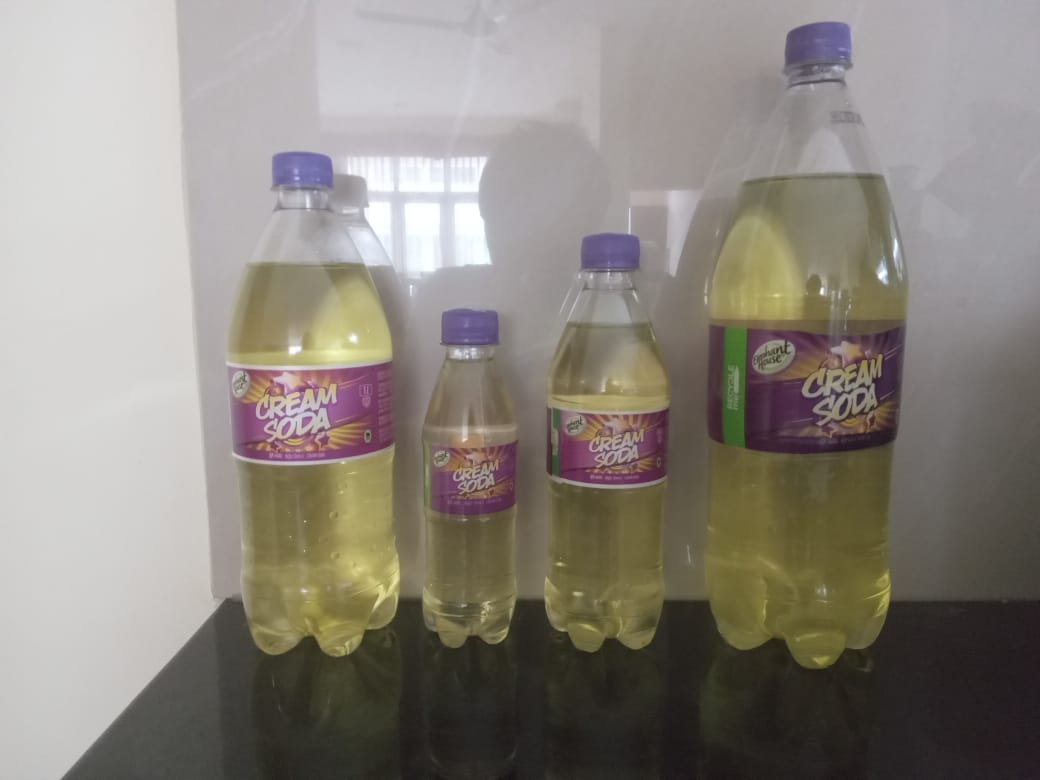L: (691, 17, 918, 670)
M: (219, 146, 406, 666)
S: (541, 231, 676, 658)
Xs: (413, 304, 527, 659)
